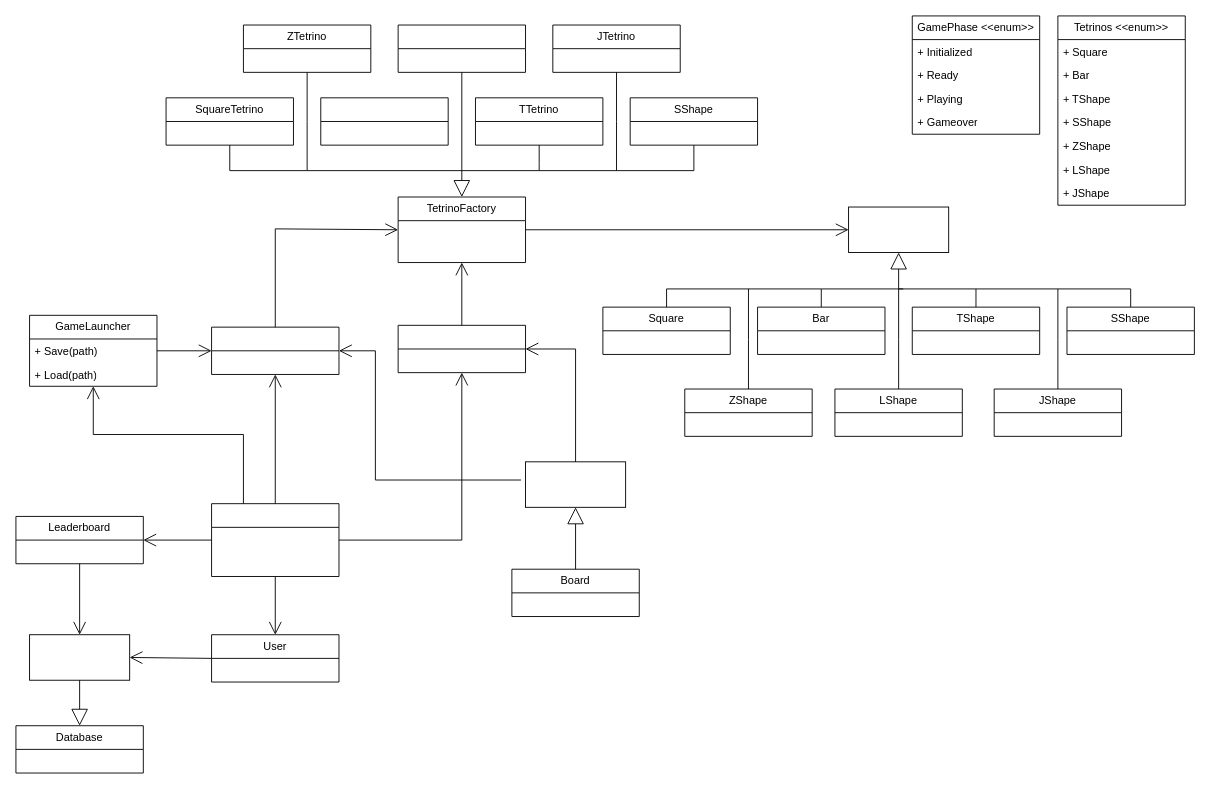
Some shapes in this 1210 by 789 pixel diagram are drawn without their labels. Each missing label, with the centre of its shape:
BarTetrino: point (384, 121)
LTetrino: point (461, 48)
MainGame: point (275, 539)
Physics: point (461, 348)
Render: point (275, 350)
«interface» Board: point (575, 484)
«interface» Database: point (79, 657)
«interface» Shape: point (898, 229)
